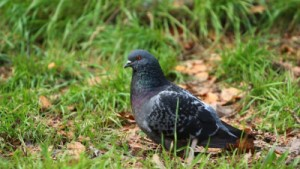pigeon: (122, 49, 259, 154)
